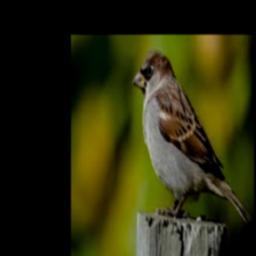Sparrow: (132, 50, 252, 222)
